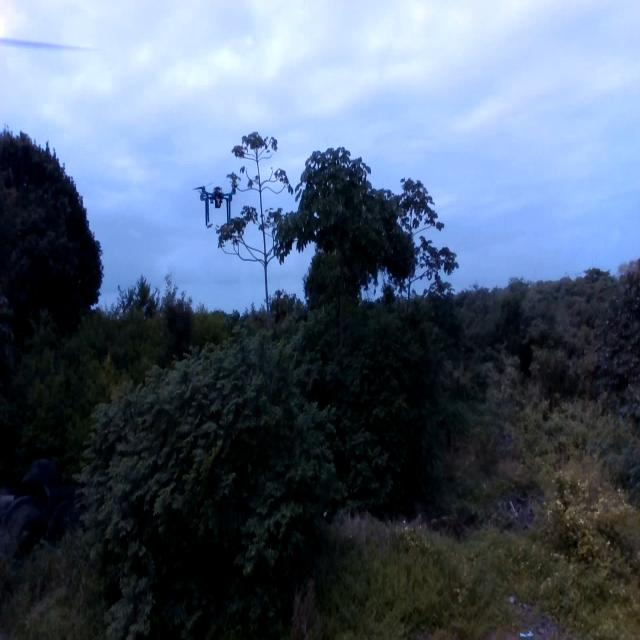-uav-: (194, 175, 239, 232)
